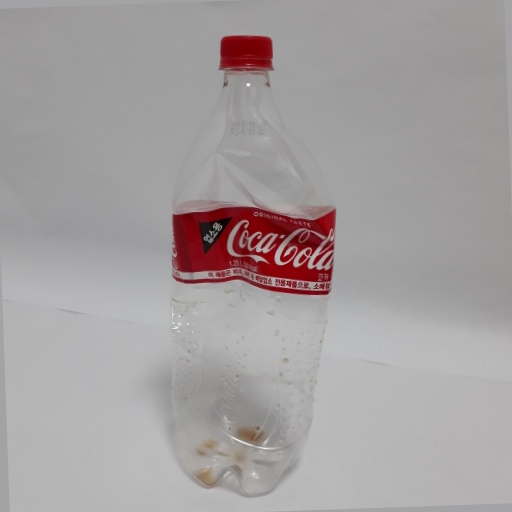Plastic_0: (163, 28, 340, 499)
